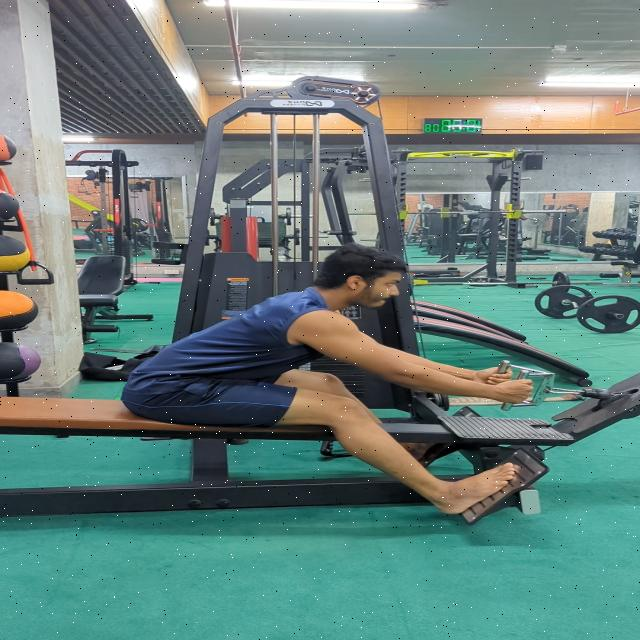Normal_RowingMachineExercise: (98, 246, 539, 522)
